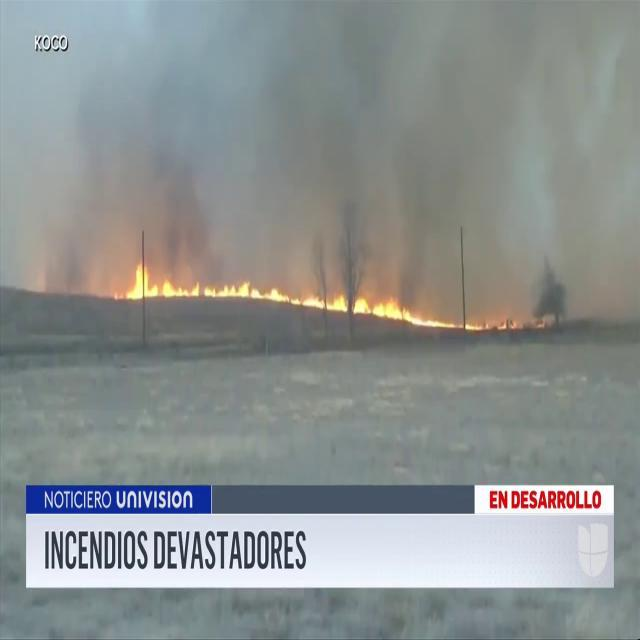Fire: (120, 270, 460, 318)
Smoke: (14, 1, 630, 292)
